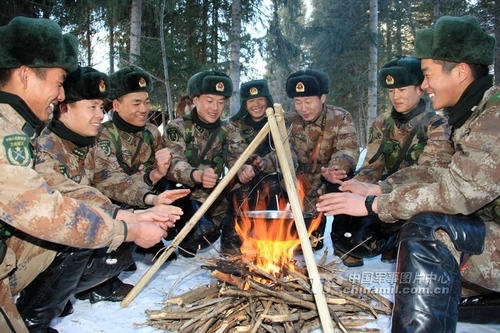fire: (234, 184, 316, 281)
